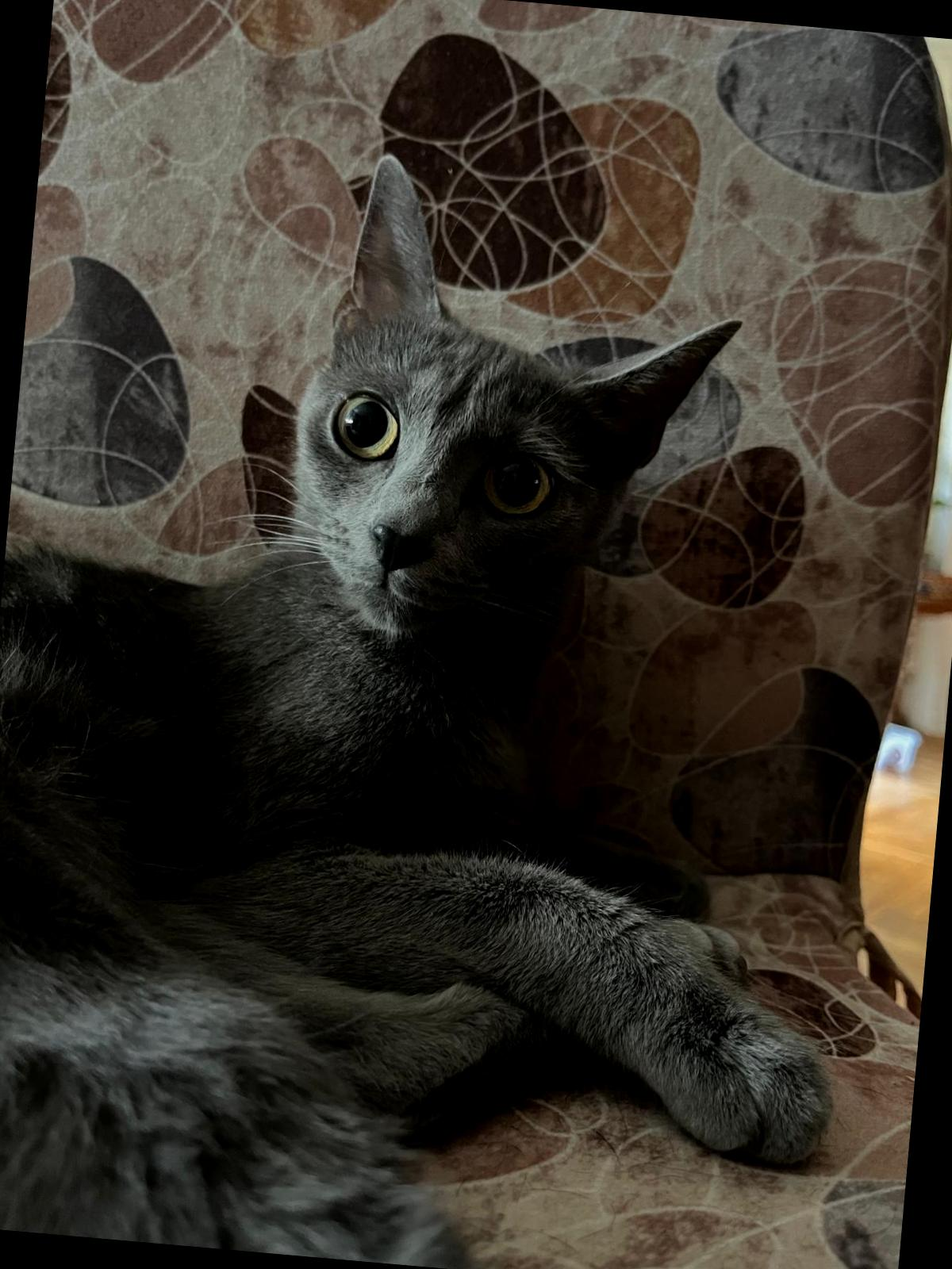macka: (0, 126, 915, 1269)
